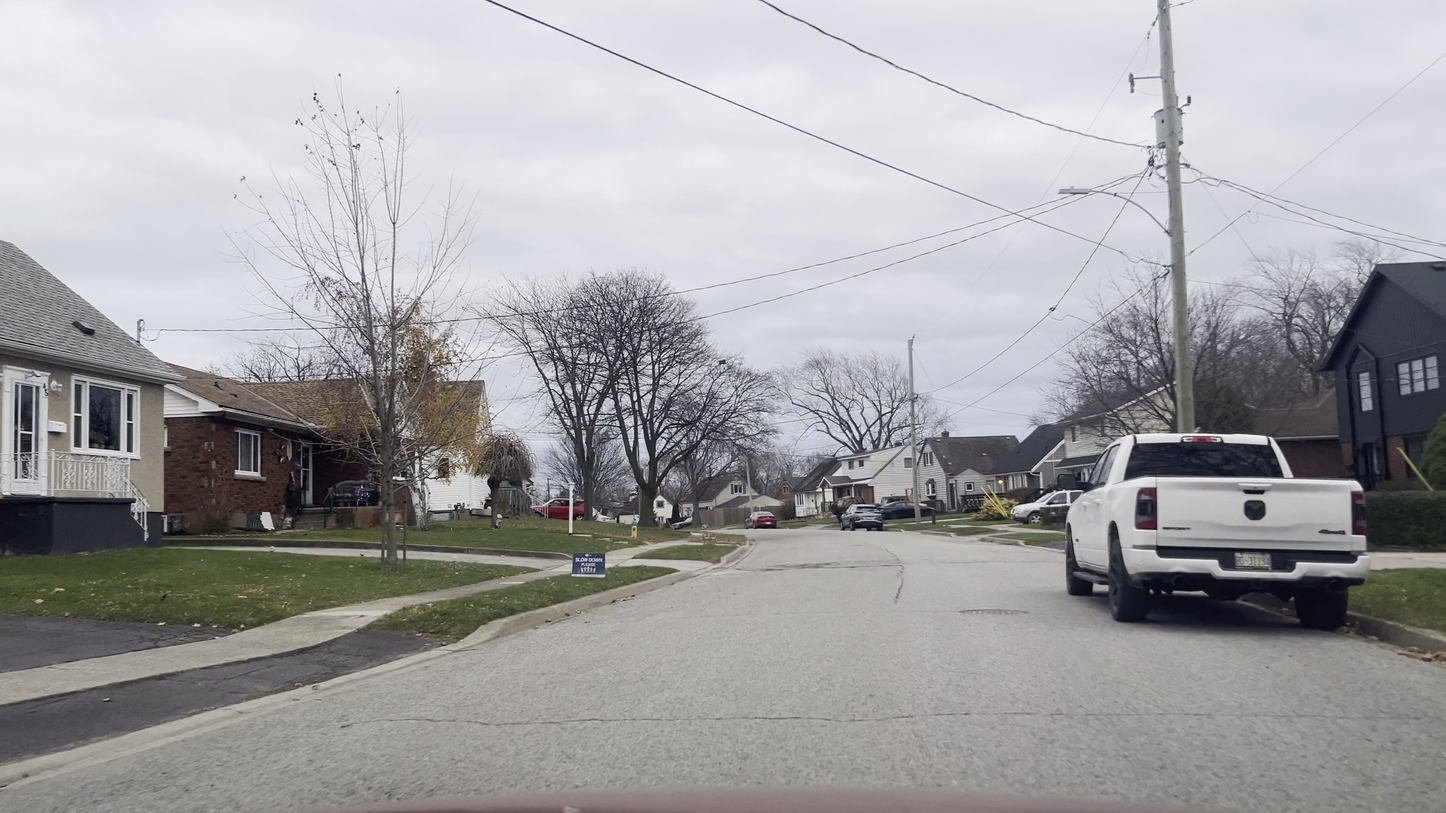cracks: (741, 551, 870, 583)
